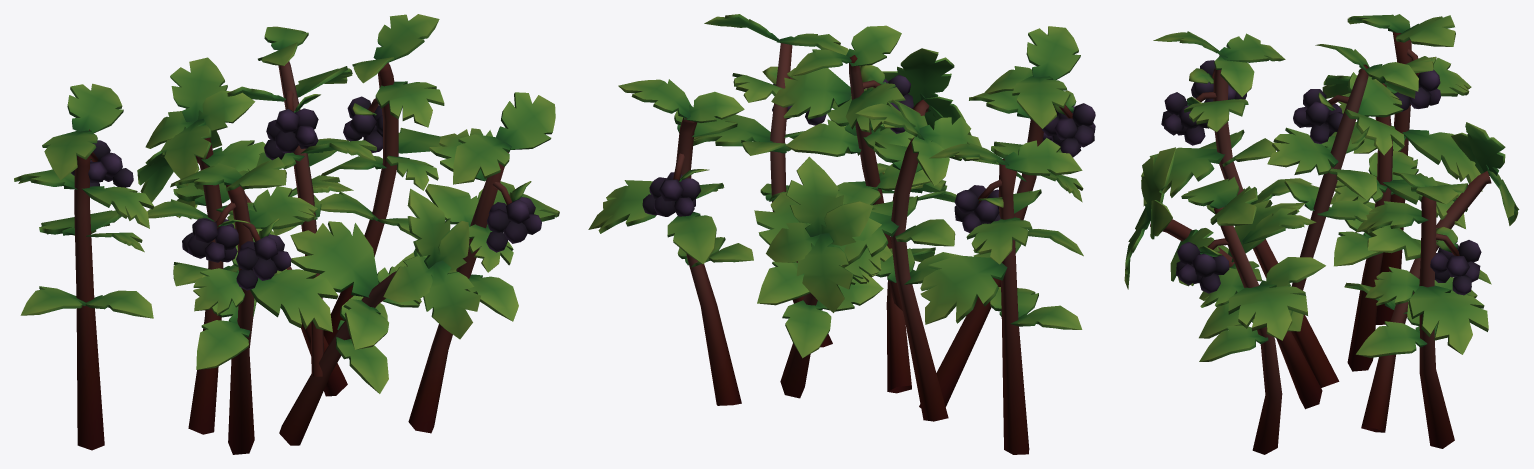
The model's file is SM_Plant_Raspberry_Lv3.fbx.
3 renders of one model, left to right at view 1: azimuth 30°, elevation 25°; view 2: azimuth 150°, elevation 25°; view 3: azimuth 270°, elevation 25°, orthographic. The views are drawn at different scales.
Parts seen in each view (by area): view 1: SM_Plant_Raspberry_Lv3; view 2: SM_Plant_Raspberry_Lv3; view 3: SM_Plant_Raspberry_Lv3.
Boxes of the visible parts, left/top/right/bottom form: SM_Plant_Raspberry_Lv3: left=14, top=14, right=559, bottom=454; SM_Plant_Raspberry_Lv3: left=588, top=14, right=1095, bottom=454; SM_Plant_Raspberry_Lv3: left=1124, top=14, right=1519, bottom=454.
Bounding box in the file's own units: 56.53 × 44.65 × 43.03.
